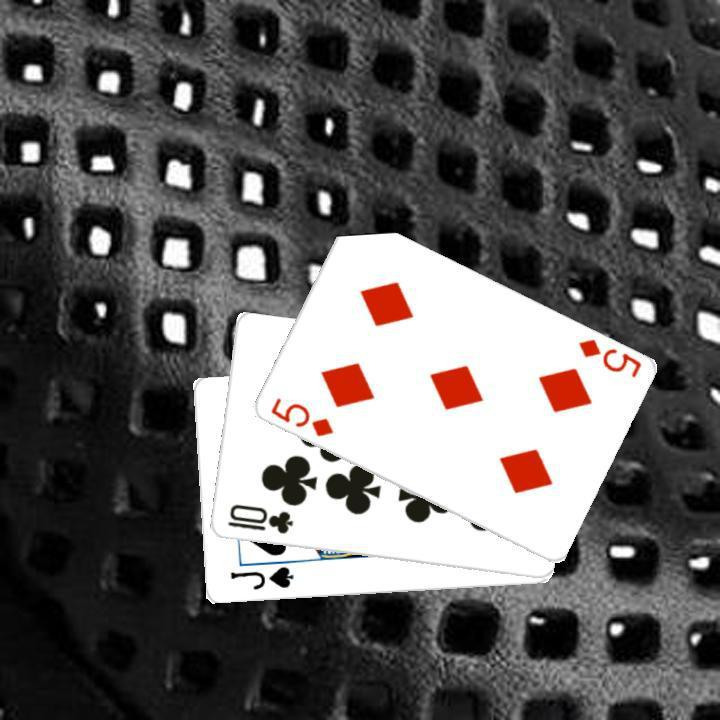10: (223, 500, 295, 537)
5: (265, 393, 335, 439), (573, 334, 643, 380)
J: (226, 563, 295, 593)
